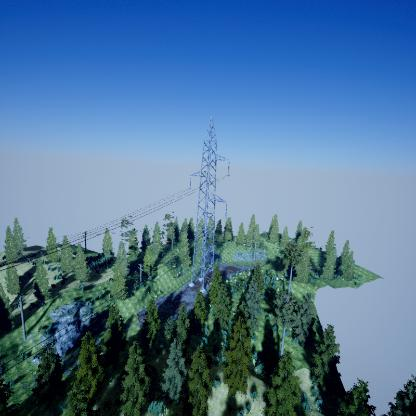tower: (186, 111, 233, 300)
